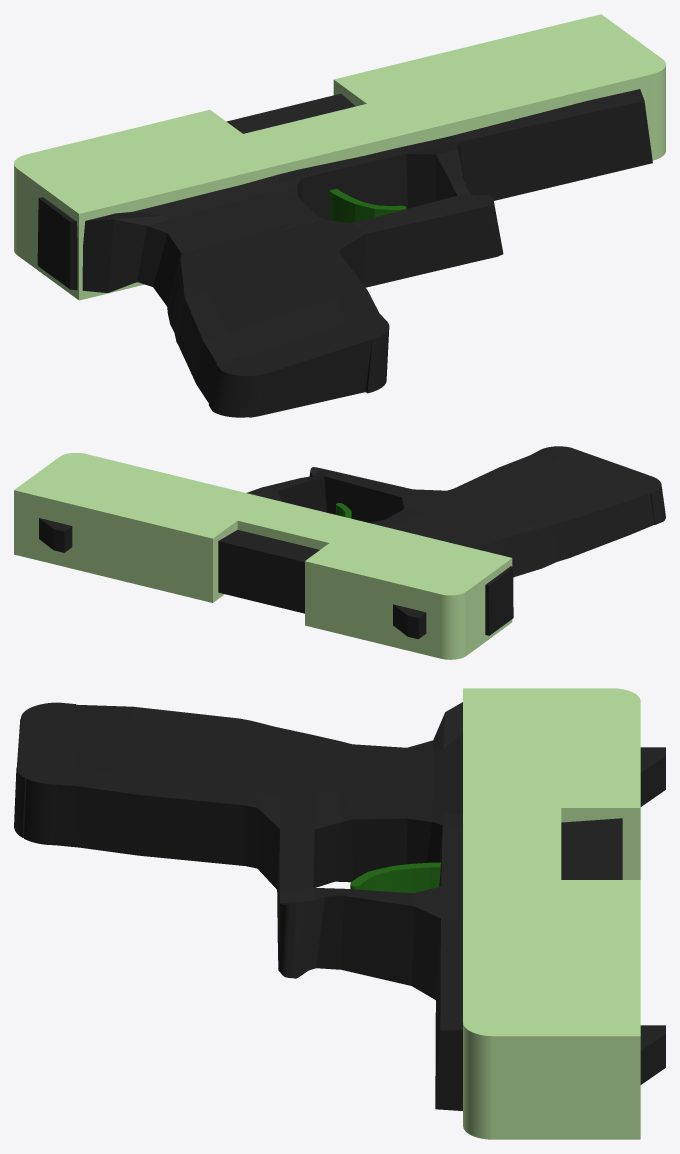
Rendered from GunMode.fbx.
3 renders of one model, top to bottom at view 1: azimuth 30°, elevation 25°; view 2: azimuth 150°, elevation 25°; view 3: azimuth 270°, elevation 25°, orthographic. The views are drawn at different scales.
Parts seen in each view (by area): view 1: Cube.003, Cube, Cube.004; view 2: Cube, Cube.003, Cube.001, Cube.002; view 3: Cube.003, Cube, Cube.004, Cube.002, Cube.001.
Boxes of the visible parts, x1,y1,x2,y2 form: Cube.003: [37, 89, 652, 417]; Cube: [14, 14, 665, 300]; Cube.004: [329, 188, 406, 223]; Cube: [14, 453, 512, 659]; Cube.003: [247, 446, 665, 635]; Cube.001: [39, 518, 72, 552]; Cube.002: [393, 604, 426, 639]; Cube.003: [14, 702, 462, 1110]; Cube: [463, 688, 640, 1139]; Cube.004: [350, 862, 440, 893]; Cube.002: [640, 747, 665, 806]; Cube.001: [640, 1025, 665, 1084].
Bounding box in the file's own units: 494 × 64.78 × 370.
